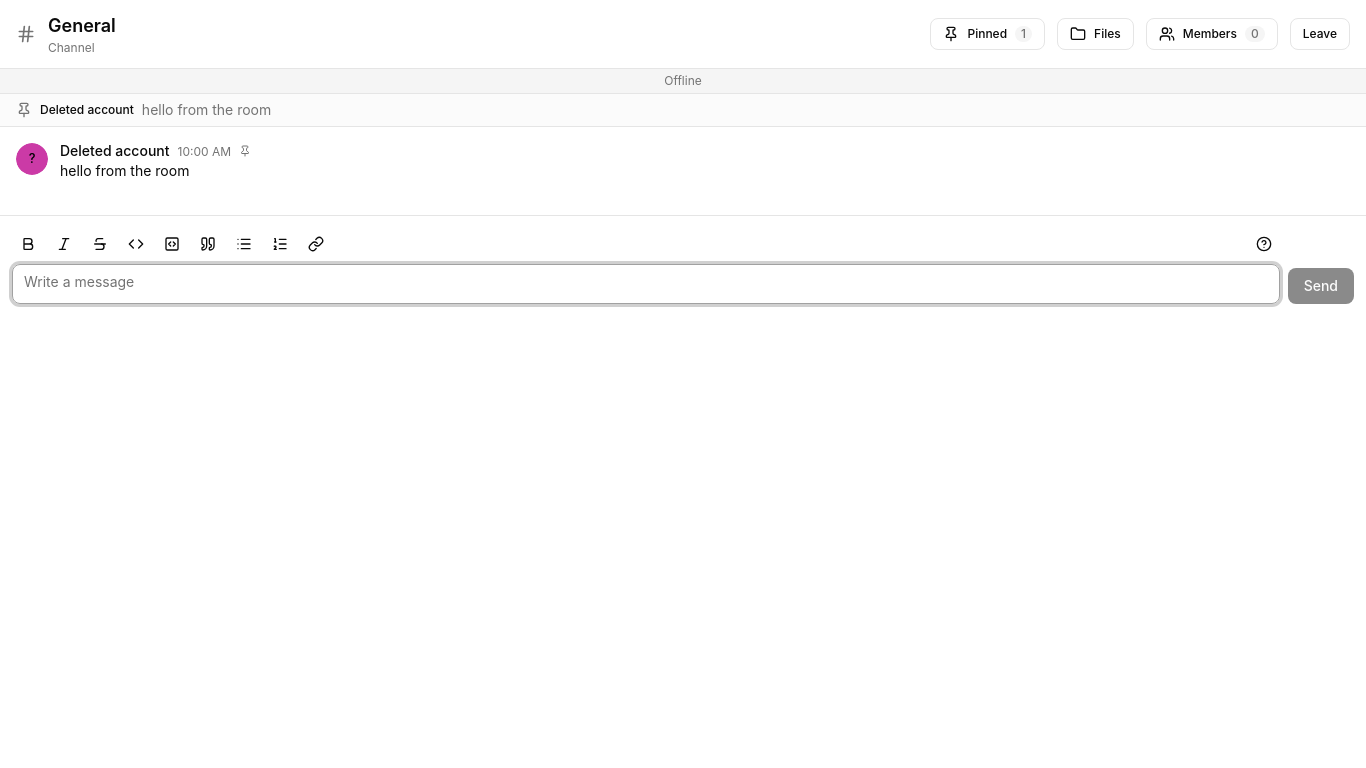
Test: puts the pins toggle in the room header, with the count, and opens the pins panel
Click the button "Pinned 1" at (988, 34), box [930,18,1045,50]
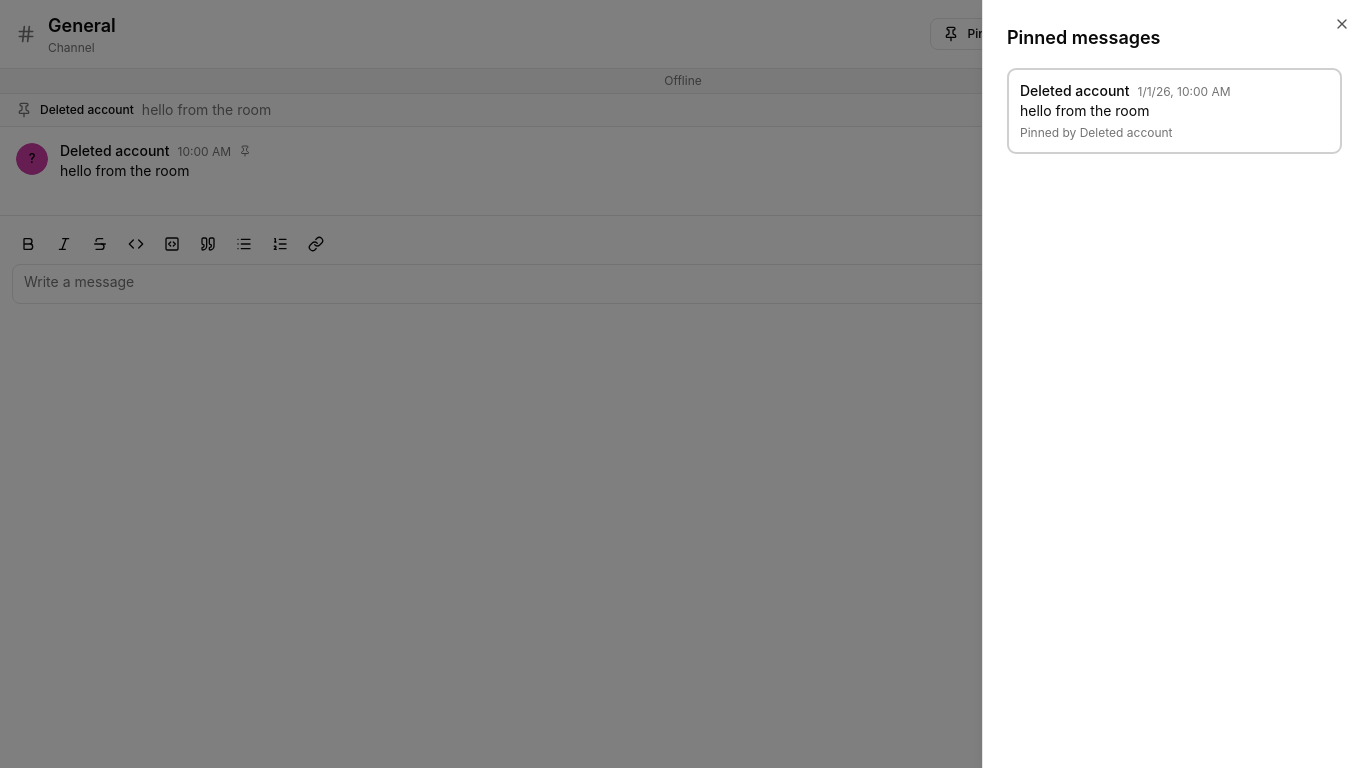
Now the text "hello from the room" is shown, box [1020,102,1149,119]
Now the button "Pinned 1" is expanded, box [930,18,1045,50]
